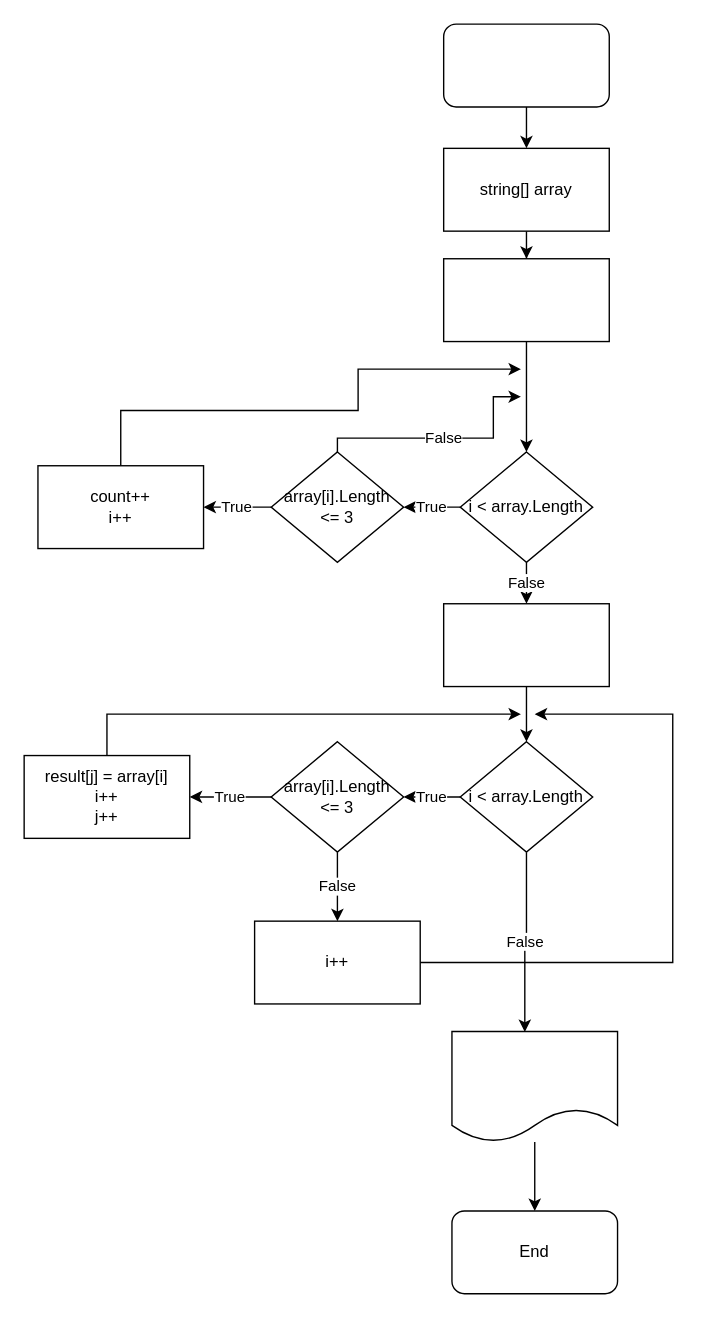
Some shapes in this 708 by 1318 pixel diagram are drawn without their labels. The shapes that lost their labels are listed below. From the top down, each one's centre as x and y in pixels, then its label:
the point at 525,65: Start
the point at 525,299: i = 0 count = 0
the point at 525,644: string result[count] i = 0 j = 0
the point at 534,1086: result
